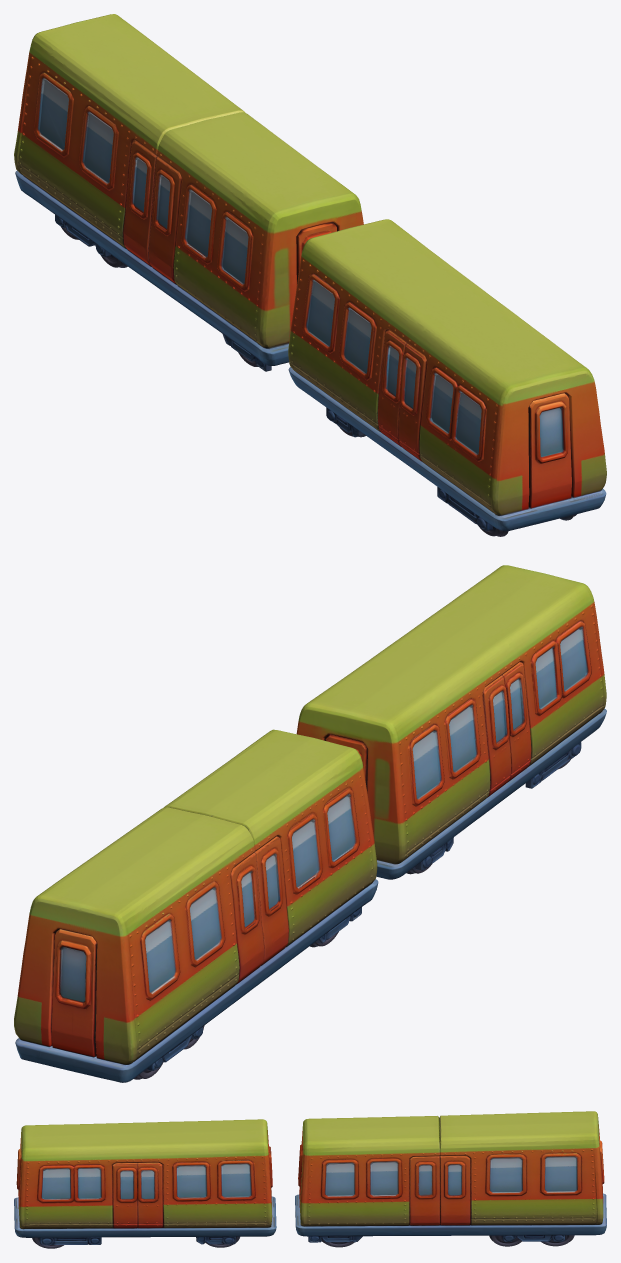
File: train1.glb
3 views of the same model, one above another, from view 1: azimuth 30°, elevation 25°; view 2: azimuth 150°, elevation 25°; view 3: azimuth 270°, elevation 25° (orthographic). The views are drawn at different scales.
Visible parts, largest first — view 1: tripo_node_daff9a7e-2c49-4a18-9dbe-797e431c6eee; view 2: tripo_node_daff9a7e-2c49-4a18-9dbe-797e431c6eee; view 3: tripo_node_daff9a7e-2c49-4a18-9dbe-797e431c6eee.
Part boxes in pixels (box(x1,y1,x2,y2)): tripo_node_daff9a7e-2c49-4a18-9dbe-797e431c6eee: box(14, 14, 606, 536); tripo_node_daff9a7e-2c49-4a18-9dbe-797e431c6eee: box(14, 565, 606, 1082); tripo_node_daff9a7e-2c49-4a18-9dbe-797e431c6eee: box(14, 1111, 606, 1248).
Size of the model in its own units: 4.24 by 5.9 by 28.02.
Materials: 1 (1 with a texture image).
